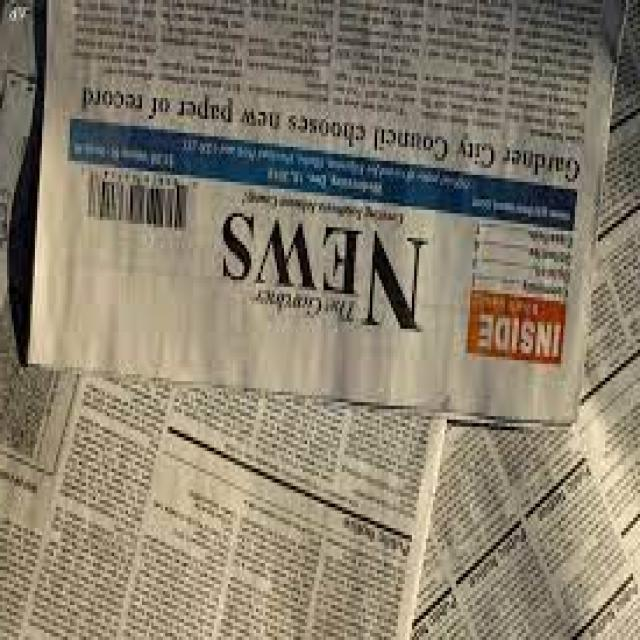newspaper: (34, 0, 618, 429), (413, 61, 640, 639), (0, 364, 440, 640)
